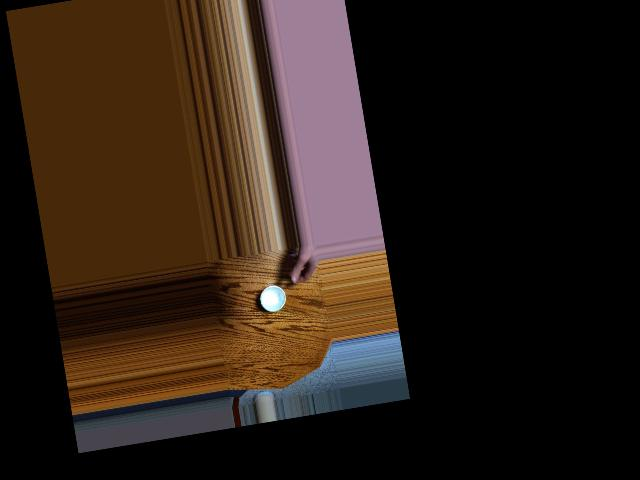cotage: (258, 279, 290, 313)
